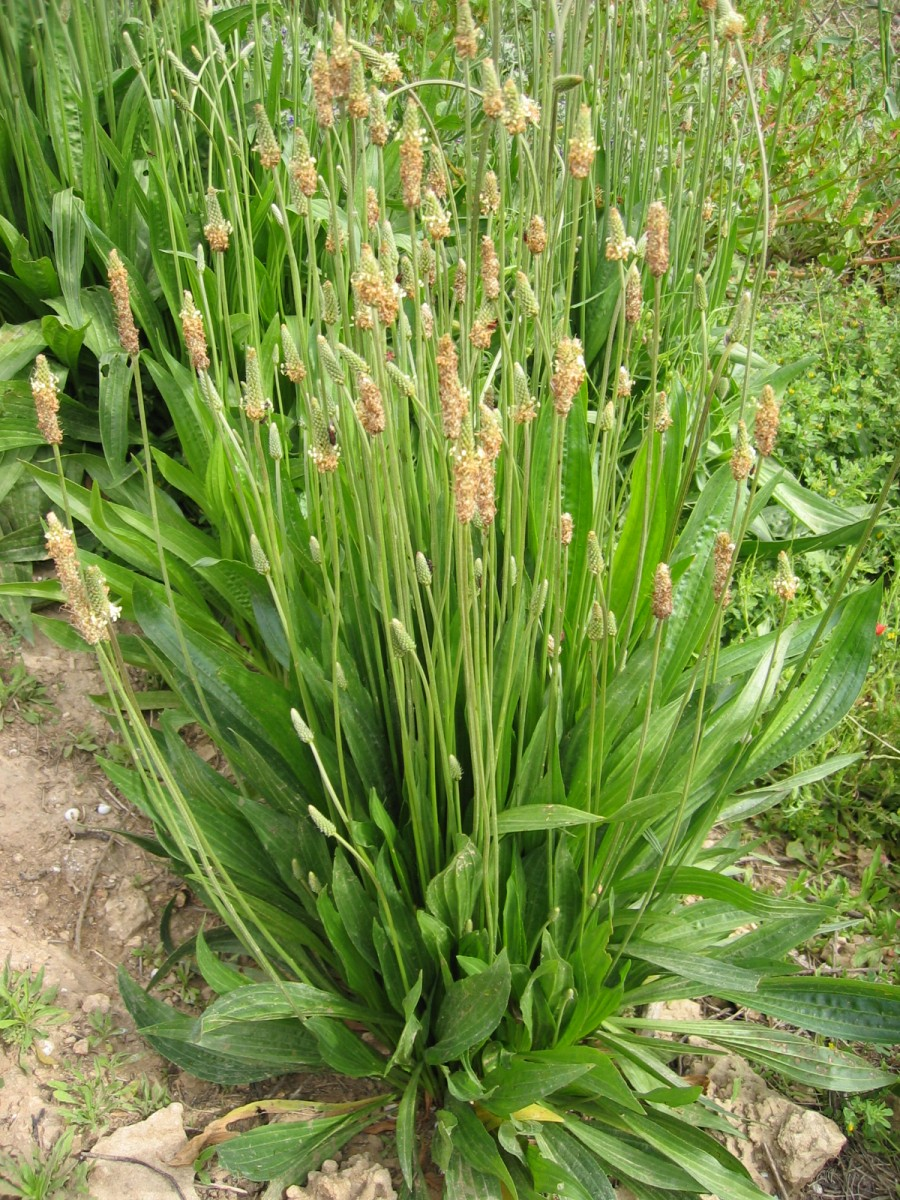buckhorn plantain: (43, 10, 864, 1166)
